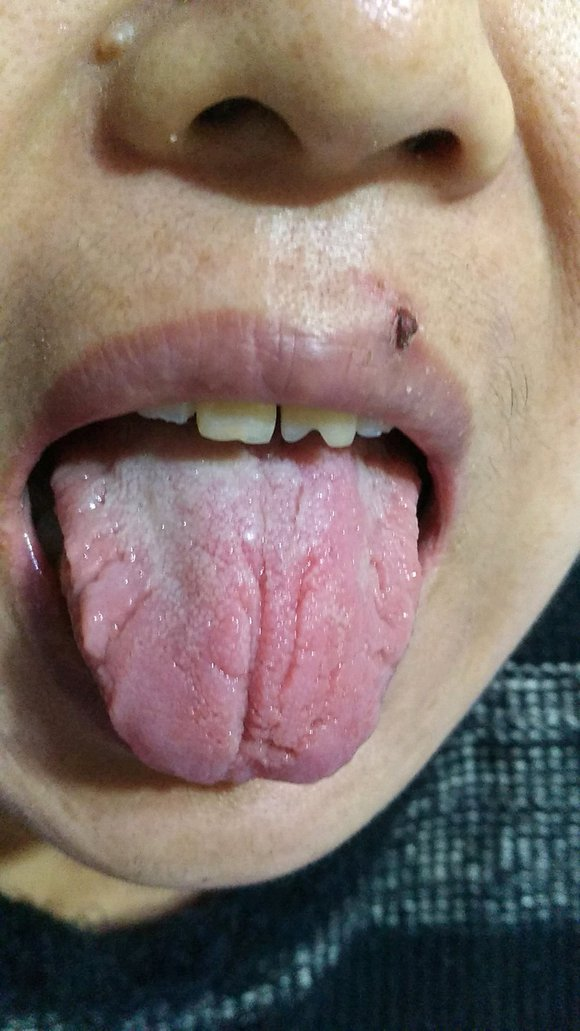baitaishe: (49, 430, 420, 789)
liewenshe: (225, 463, 309, 776), (62, 469, 153, 718), (363, 552, 402, 666)
